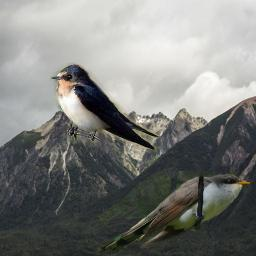Cuckoo: (94, 171, 250, 253)
Swallow: (50, 62, 159, 154)
